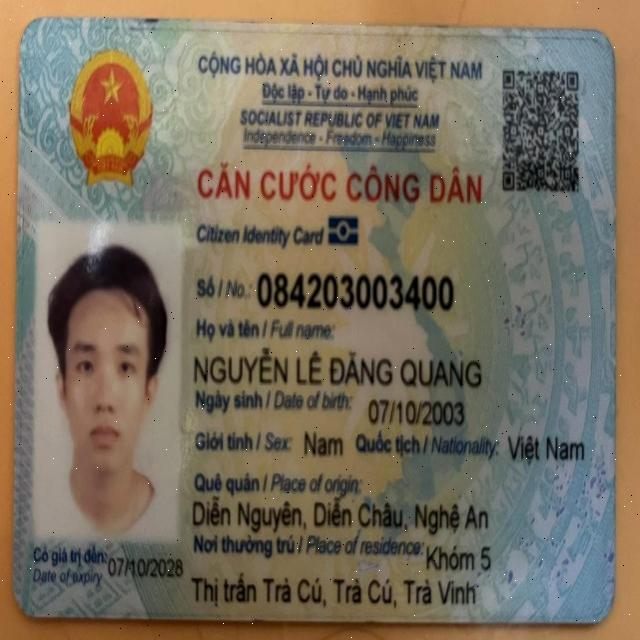current_place: (186, 569, 486, 614), (422, 535, 494, 576)
dob: (363, 389, 469, 432)
expire_date: (105, 547, 186, 584)
gender: (297, 421, 349, 466)
id: (254, 265, 458, 317)
name: (189, 341, 488, 395)
nationality: (503, 427, 589, 470)
origin_place: (189, 490, 495, 539)
qr: (500, 62, 582, 200)
